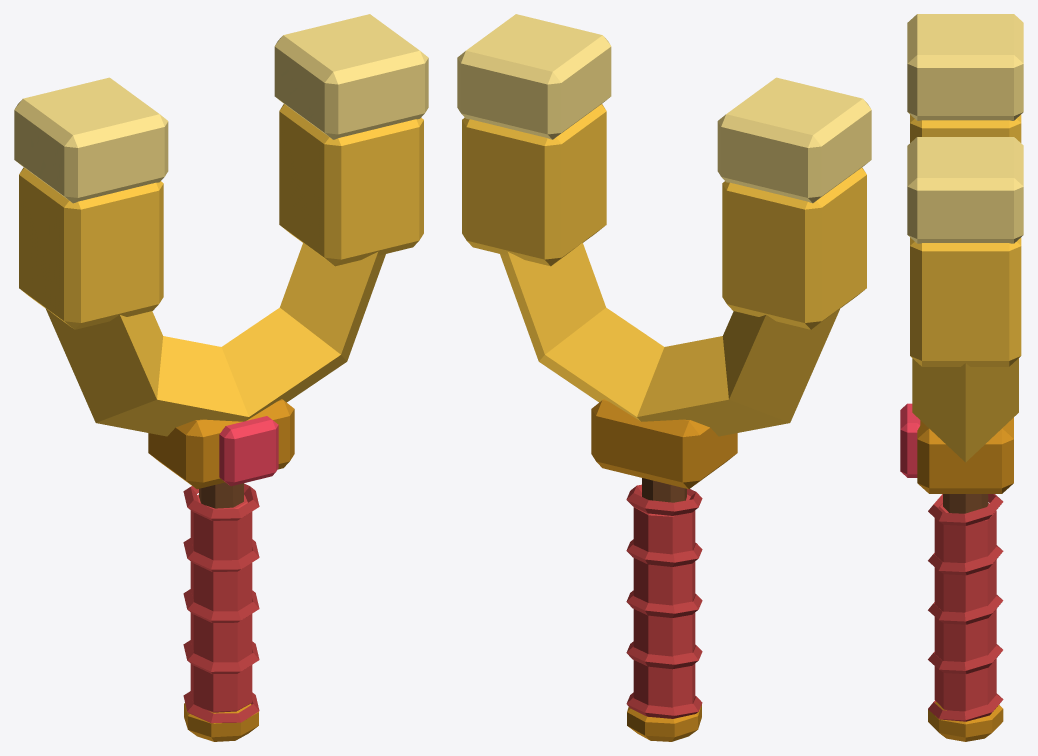
The model's file is GoldCoinMagnet.fbx.
3 renders of one model, left to right at view 1: azimuth 30°, elevation 25°; view 2: azimuth 150°, elevation 25°; view 3: azimuth 270°, elevation 25°, orthographic. The views are drawn at different scales.
Visible parts, largest first — view 1: GoldCoinMagnet; view 2: GoldCoinMagnet; view 3: GoldCoinMagnet.
Part boxes in pixels (x1,y1,x2,y2): GoldCoinMagnet: [14, 14, 428, 741]; GoldCoinMagnet: [457, 14, 871, 741]; GoldCoinMagnet: [900, 14, 1023, 741].
Bounding box in the file's own units: 1.68 × 2.89 × 0.51.
Materials: 1 (1 with a texture image).
